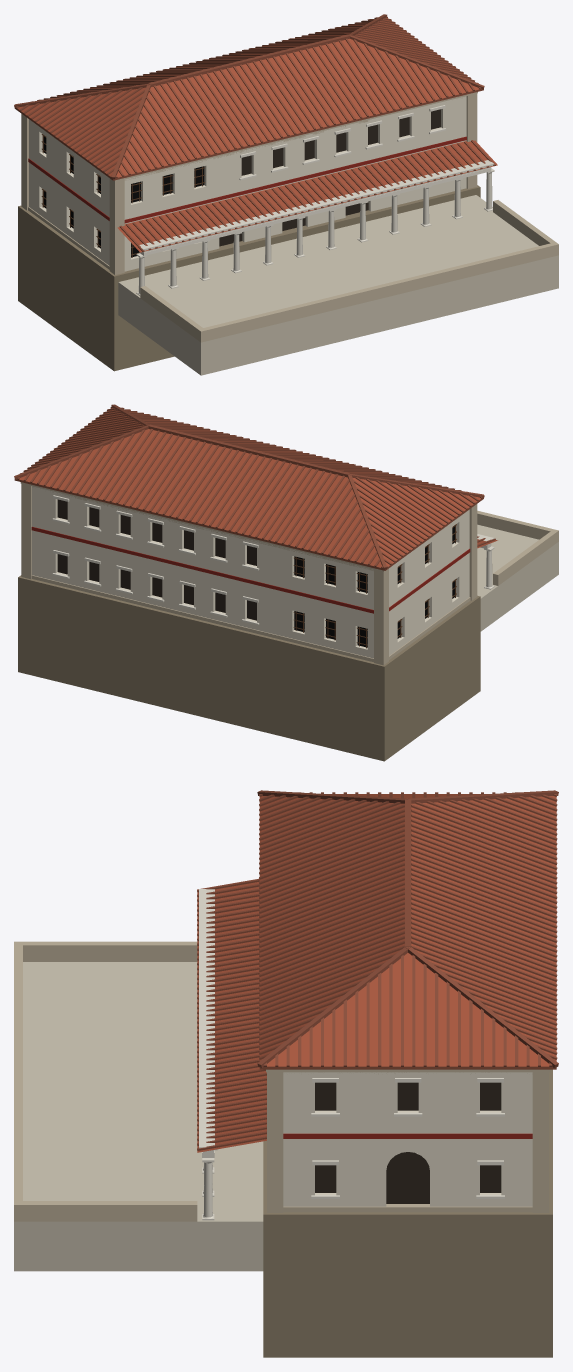
The model's file is ant_sidehall.glb.
The picture shows the model from 3 angles, top to bottom: view 1: azimuth 30°, elevation 25°; view 2: azimuth 150°, elevation 25°; view 3: azimuth 270°, elevation 25°; orthographic projection. The views are drawn at different scales.
Visible parts, largest first — view 1: ant_sidehall; view 2: ant_sidehall; view 3: ant_sidehall.
Part boxes in pixels (x1,y1,x2,y2): ant_sidehall: (14,14,558,375); ant_sidehall: (14,404,558,761); ant_sidehall: (14,790,558,1357).
Size of the model in its own units: 35.45 by 21.05 by 29.73.
